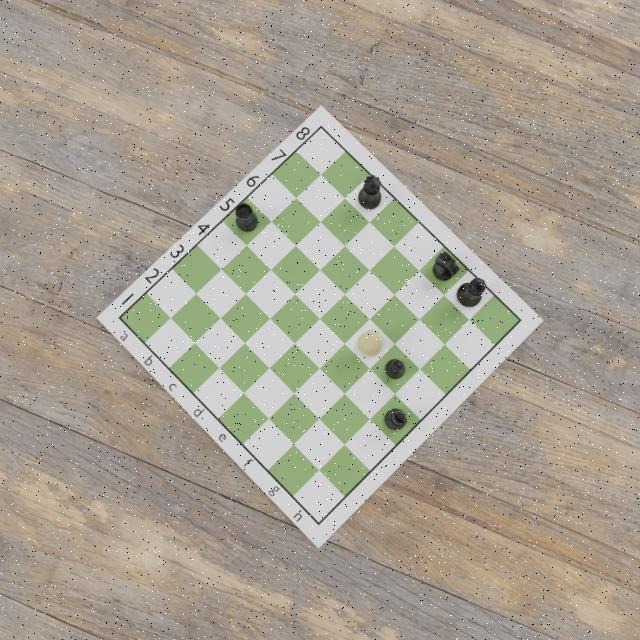black-bishop: (384, 407, 408, 432)
black-king: (456, 278, 487, 309)
black-knight: (433, 250, 461, 282)
black-pawn: (384, 357, 405, 379)
black-queen: (358, 174, 382, 211)
black-rook: (235, 203, 258, 234)
white-king: (358, 327, 382, 357)
